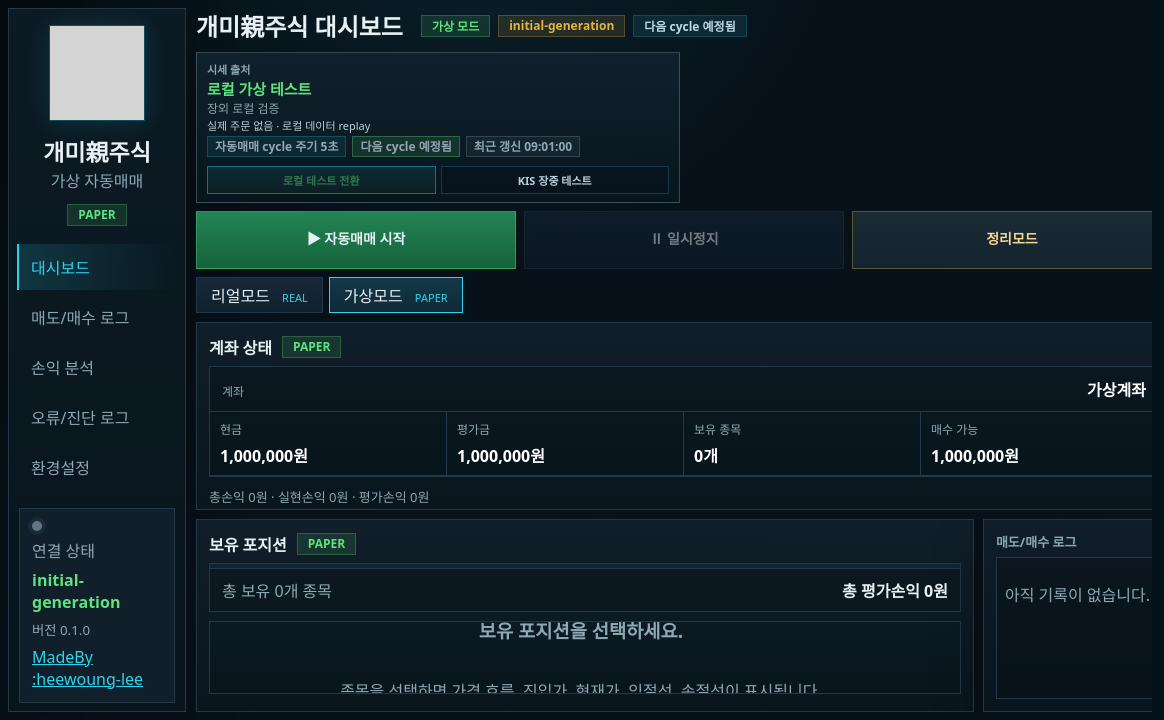
it: Electron dashboard app shell › does not show an action popup from an older bridge generation
Click the button "정리모드".
click(1002, 240)  # box [852, 211, 1152, 269]
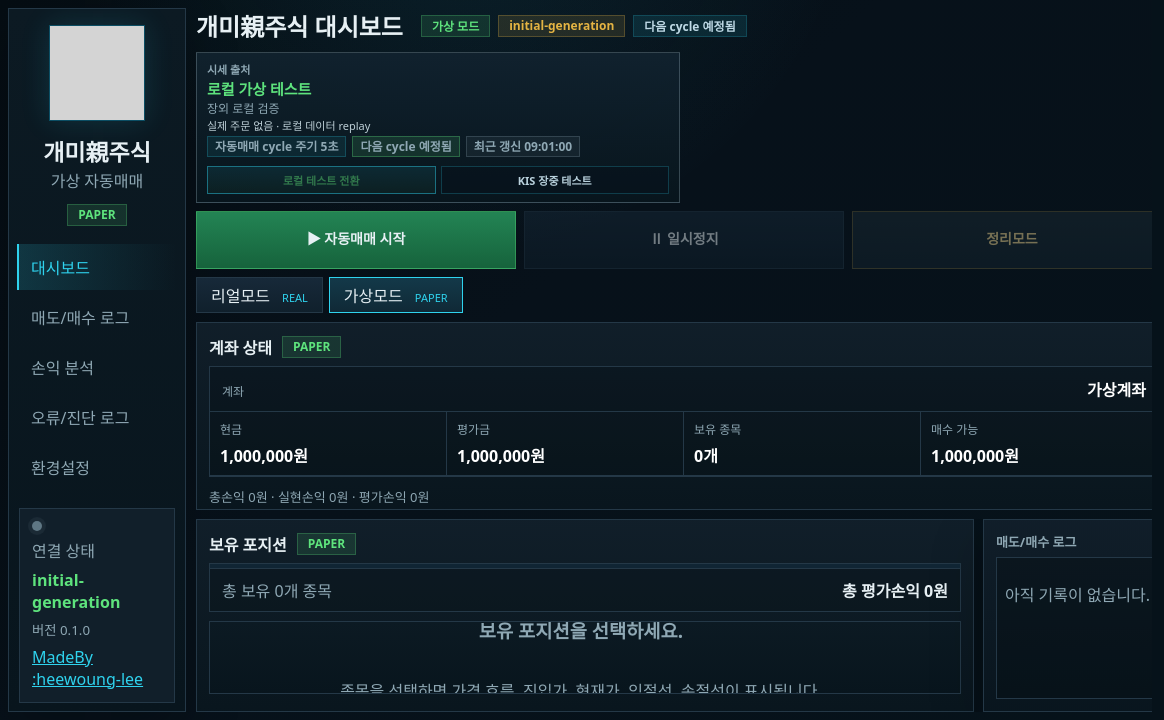
Click the button "리얼모드 REAL".
click(259, 295)  # box [196, 277, 323, 313]
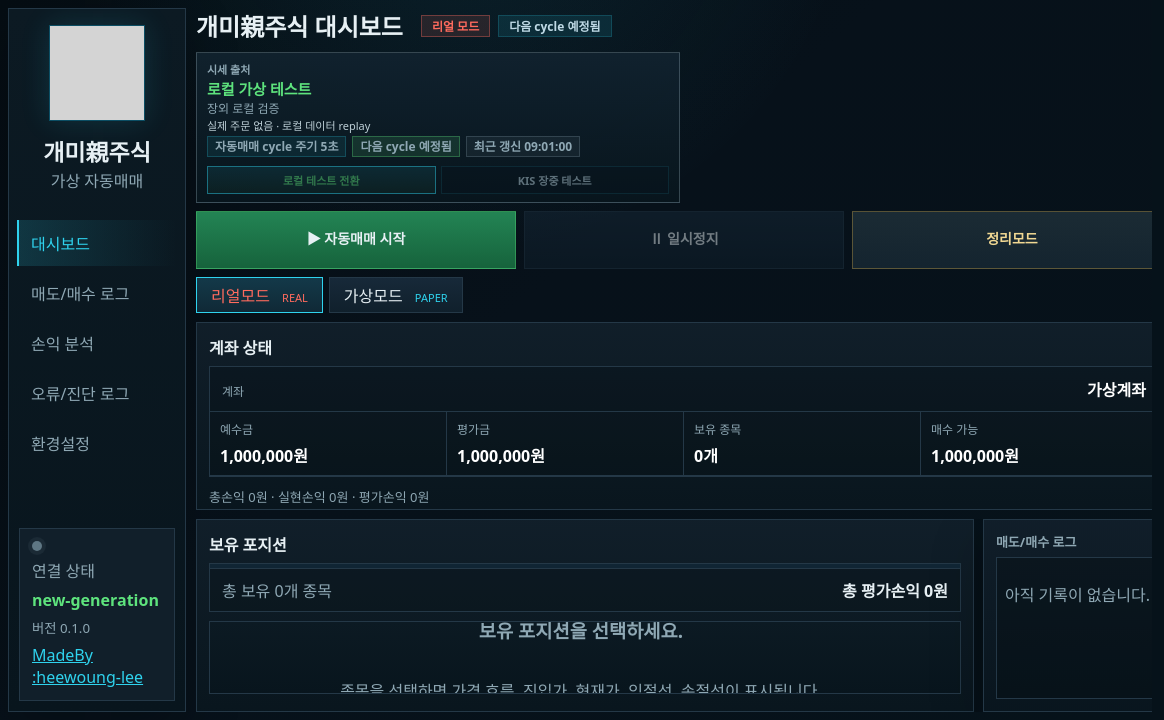
expect the text "new-generation" is shown: met, box [32, 589, 162, 611]
